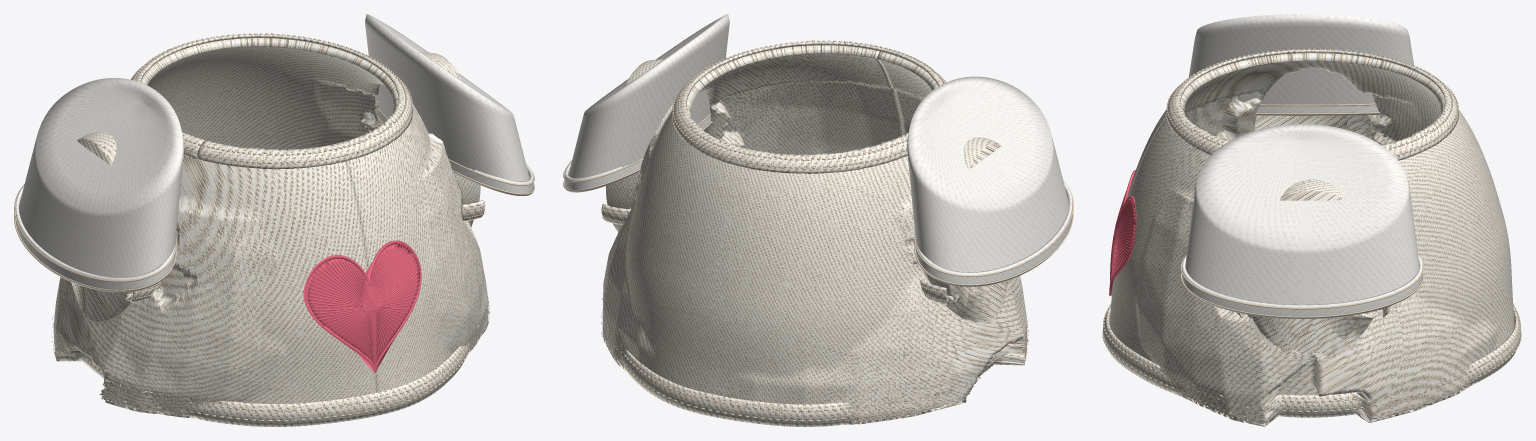
The model's file is approved_shirt_love_penguin.glb.
3 views of the same model, side by side, from view 1: azimuth 30°, elevation 25°; view 2: azimuth 150°, elevation 25°; view 3: azimuth 270°, elevation 25° (orthographic). The views are drawn at different scales.
Parts seen in each view (by area): view 1: Manga adaptada - Camiseta aprobada R20, Manga adaptada - Tejido alrededor de aleta -1, Manga adaptada - Tejido alrededor de aleta 1, Puño tejido integrado -1, Puño tejido integrado 1; view 2: Manga adaptada - Camiseta aprobada R20, Manga adaptada - Tejido alrededor de aleta -1, Manga adaptada - Tejido alrededor de aleta 1, Puño tejido integrado -1, Puño tejido integrado 1; view 3: Manga adaptada - Camiseta aprobada R20, Manga adaptada - Tejido alrededor de aleta 1, Manga adaptada - Tejido alrededor de aleta -1, Puño tejido integrado 1, Puño tejido integrado -1, Costura del puño 1.001, Costura del puño 1.
Part boxes in pixels (x1,y1,x2,y2): Manga adaptada - Camiseta aprobada R20: (52,33,489,426); Manga adaptada - Tejido alrededor de aleta -1: (19,78,183,277); Manga adaptada - Tejido alrededor de aleta 1: (365,14,529,181); Puño tejido integrado -1: (15,184,175,292); Puño tejido integrado 1: (375,107,533,195); Manga adaptada - Camiseta aprobada R20: (601,40,1028,426); Manga adaptada - Tejido alrededor de aleta -1: (907,76,1068,272); Manga adaptada - Tejido alrededor de aleta 1: (568,14,729,178); Puño tejido integrado -1: (915,181,1072,286); Puño tejido integrado 1: (564,116,711,192); Manga adaptada - Camiseta aprobada R20: (1102,48,1521,426); Manga adaptada - Tejido alrededor de aleta 1: (1185,124,1419,304); Manga adaptada - Tejido alrededor de aleta -1: (1188,14,1413,106); Puño tejido integrado 1: (1182,254,1422,318); Puño tejido integrado -1: (1255,105,1379,115); Costura del puño 1.001: (1180,254,1424,309); Costura del puño 1: (1180,272,1424,317).
Size of the model in its own units: 0.6418 by 0.3741 by 0.529.
Materials: 4 (2 with a texture image).
